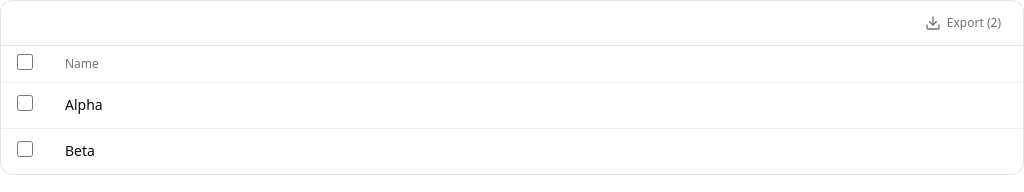
Test case: DataTable — unit › Row Selection › select-all checks all row checkboxes
The width and height of the screenshot is (1024, 192).
Click the checkbox named "select all".
click(25, 62)  # box [17,54,33,70]
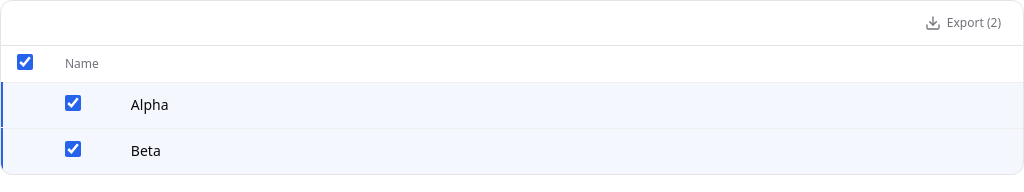
Check: the checkbox next to "Alpha" is checked, box [65,94,81,110]
Check: the checkbox next to "Beta" is checked, box [65,140,81,156]
